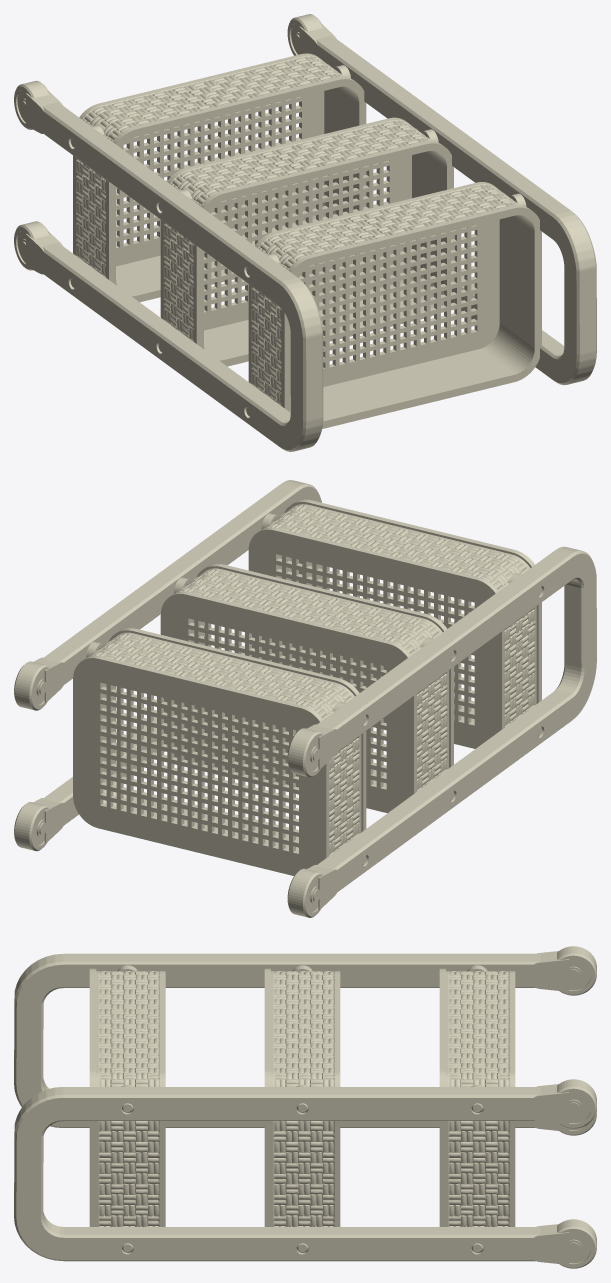
Rendered from assembly_preview.glb.
3 views of the same model, one above another, from view 1: azimuth 30°, elevation 25°; view 2: azimuth 150°, elevation 25°; view 3: azimuth 270°, elevation 25° (orthographic).
Parts seen in each view (by area): view 1: geometry_0; view 2: geometry_0; view 3: geometry_0.
Part boxes in pixels (x1,y1,x2,y2): geometry_0: [14, 14, 596, 451]; geometry_0: [14, 480, 596, 917]; geometry_0: [14, 946, 596, 1268].
Bounding box in the file's own units: 116 × 69 × 200.
